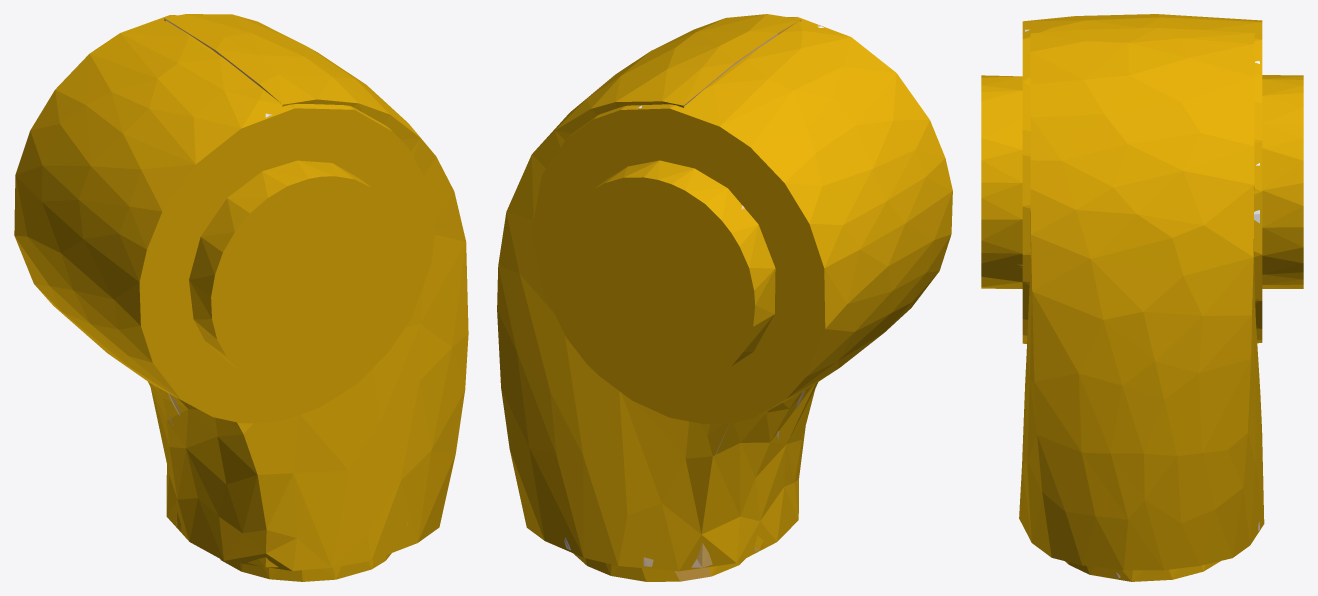
File: KukaKR6R900Link3.dae
The picture shows the model from 3 angles, left to right: view 1: azimuth 30°, elevation 25°; view 2: azimuth 150°, elevation 25°; view 3: azimuth 270°, elevation 25°; orthographic projection. The views are drawn at different scales.
Parts seen in each view (by area): view 1: KUKAKR6R900Link3; view 2: KUKAKR6R900Link3; view 3: KUKAKR6R900Link3.
Boxes of the visible parts, x1,y1,x2,y2 form: KUKAKR6R900Link3: (14,14,468,581); KUKAKR6R900Link3: (497,14,952,581); KUKAKR6R900Link3: (981,14,1303,581).
Bounding box in the file's own units: 0.1772 × 0.1447 × 0.2376.
